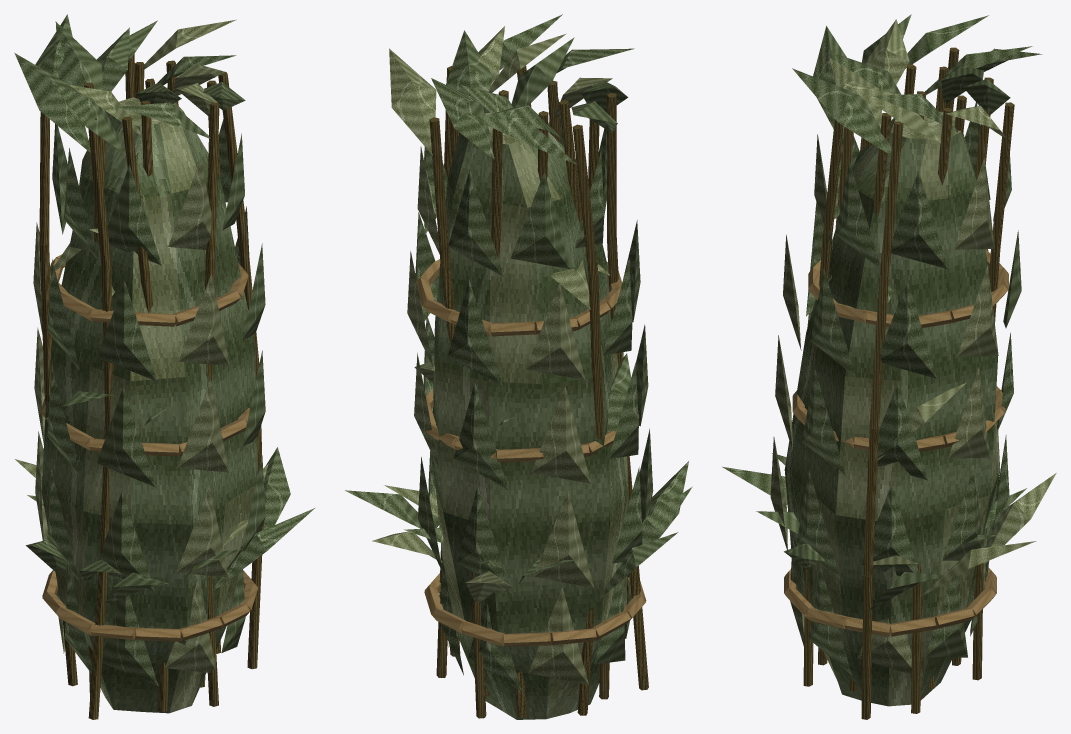
The model's file is blender_incense_2.glb.
The picture shows the model from 3 angles, left to right: view 1: azimuth 30°, elevation 25°; view 2: azimuth 150°, elevation 25°; view 3: azimuth 270°, elevation 25°; orthographic projection. The views are drawn at different scales.
Visible parts, largest first — view 1: blender_incense_2; view 2: blender_incense_2; view 3: blender_incense_2.
Boxes of the visible parts, left/top/right/bottom form: blender_incense_2: left=14, top=14, right=314, bottom=719; blender_incense_2: left=345, top=14, right=692, bottom=719; blender_incense_2: left=722, top=14, right=1056, bottom=719.
Size of the model in its own units: 0.0971 by 0.203 by 0.0983.
Materials: 4 (4 with a texture image).
